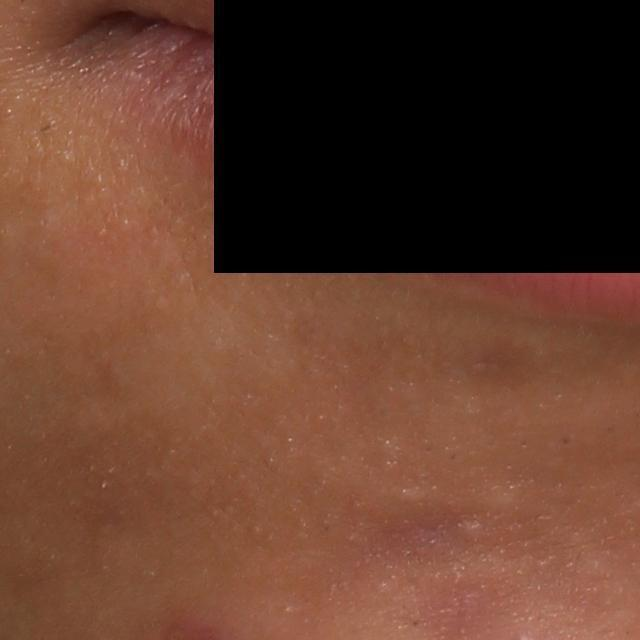hypertrophic_scar: (479, 476, 531, 512), (398, 485, 430, 504), (463, 519, 485, 536)
